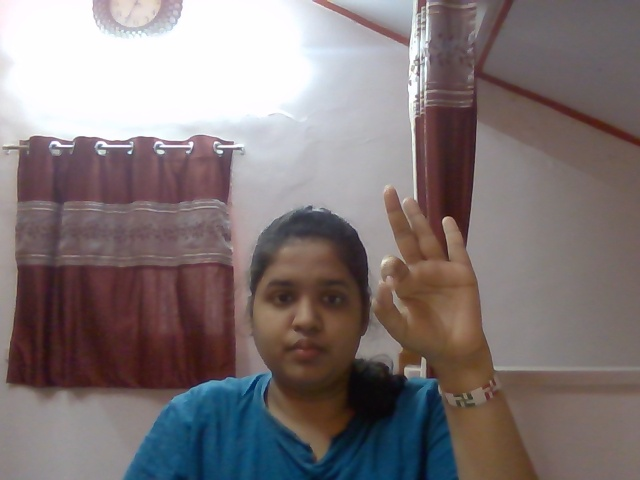f: (348, 178, 498, 359)
